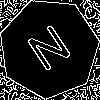N: (24, 23, 79, 81)
